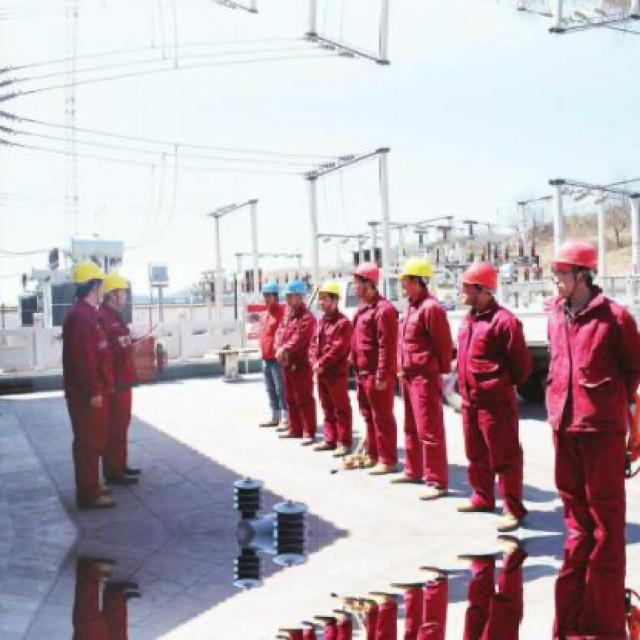helmet: (548, 233, 602, 301), (458, 259, 502, 310), (398, 253, 436, 302), (101, 268, 134, 316), (70, 258, 104, 300), (349, 259, 382, 302), (315, 279, 340, 312), (285, 274, 309, 307), (262, 281, 282, 313)
